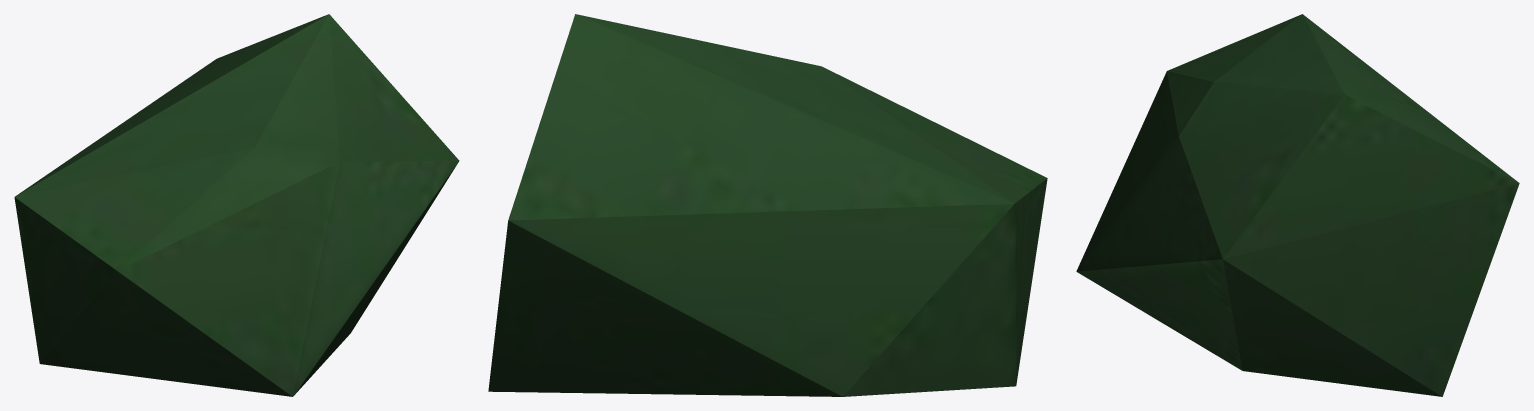
Rendered from uranium-238.glb.
3 renders of one model, left to right at view 1: azimuth 30°, elevation 25°; view 2: azimuth 150°, elevation 25°; view 3: azimuth 270°, elevation 25°, orthographic. The views are drawn at different scales.
Parts seen in each view (by area): view 1: uranium-238; view 2: uranium-238; view 3: uranium-238.
Part boxes in pixels (x1,y1,x2,y2): uranium-238: (14,14,459,396); uranium-238: (488,14,1047,396); uranium-238: (1076,14,1519,396).
Bounding box in the file's own units: 0.2 × 0.13 × 0.18.
1 material, 1 textured.
